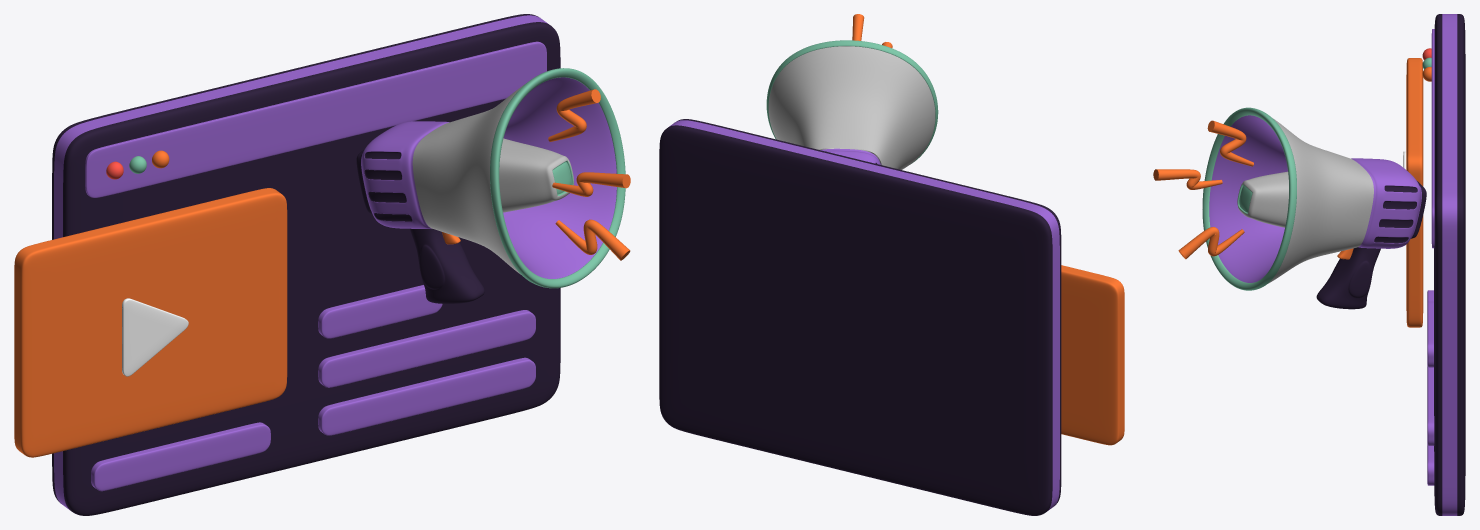
File: content-marketing-3d-animated-icon-1499000461416.glb
3 views of the same model, side by side, from view 1: azimuth 30°, elevation 25°; view 2: azimuth 150°, elevation 25°; view 3: azimuth 270°, elevation 25° (orthographic). The views are drawn at different scales.
Visible parts, largest first — view 1: Window Apps, Media Icon, Megaphone Speaker, Megaphone Body, Line 3, Line 2, Line 4, Line 1, Sound Line 3, Sound Line 1, Sound Line 2; view 2: Window Apps, Megaphone Speaker, Media Icon; view 3: Megaphone Speaker, Window Apps, Megaphone Body, Media Icon, Sound Line 3, Sound Line 1, Sound Line 2, Line 2, Line 1.
Part boxes in pixels (left/top/right/bottom): Window Apps: left=52, top=14, right=560, bottom=515; Media Icon: left=14, top=188, right=287, bottom=457; Megaphone Speaker: left=412, top=68, right=625, bottom=288; Megaphone Body: left=356, top=121, right=484, bottom=303; Line 3: left=318, top=357, right=535, bottom=435; Line 2: left=318, top=310, right=535, bottom=387; Line 4: left=91, top=422, right=270, bottom=491; Line 1: left=318, top=285, right=442, bottom=338; Sound Line 3: left=555, top=219, right=630, bottom=260; Sound Line 1: left=548, top=89, right=600, bottom=141; Sound Line 2: left=552, top=172, right=630, bottom=196; Window Apps: left=659, top=119, right=1061, bottom=515; Megaphone Speaker: left=766, top=40, right=938, bottom=169; Media Icon: left=1061, top=265, right=1124, bottom=445; Megaphone Speaker: left=1202, top=107, right=1373, bottom=290; Window Apps: left=1422, top=14, right=1465, bottom=515; Megaphone Body: left=1316, top=158, right=1426, bottom=309; Media Icon: left=1403, top=58, right=1423, bottom=327; Sound Line 3: left=1178, top=227, right=1244, bottom=259; Sound Line 1: left=1207, top=120, right=1253, bottom=166; Sound Line 2: left=1153, top=169, right=1222, bottom=189; Line 2: left=1427, top=366, right=1434, bottom=445; Line 1: left=1427, top=301, right=1433, bottom=367.
Bounding box in the file's own units: 1.86 × 1.39 × 1.09.
